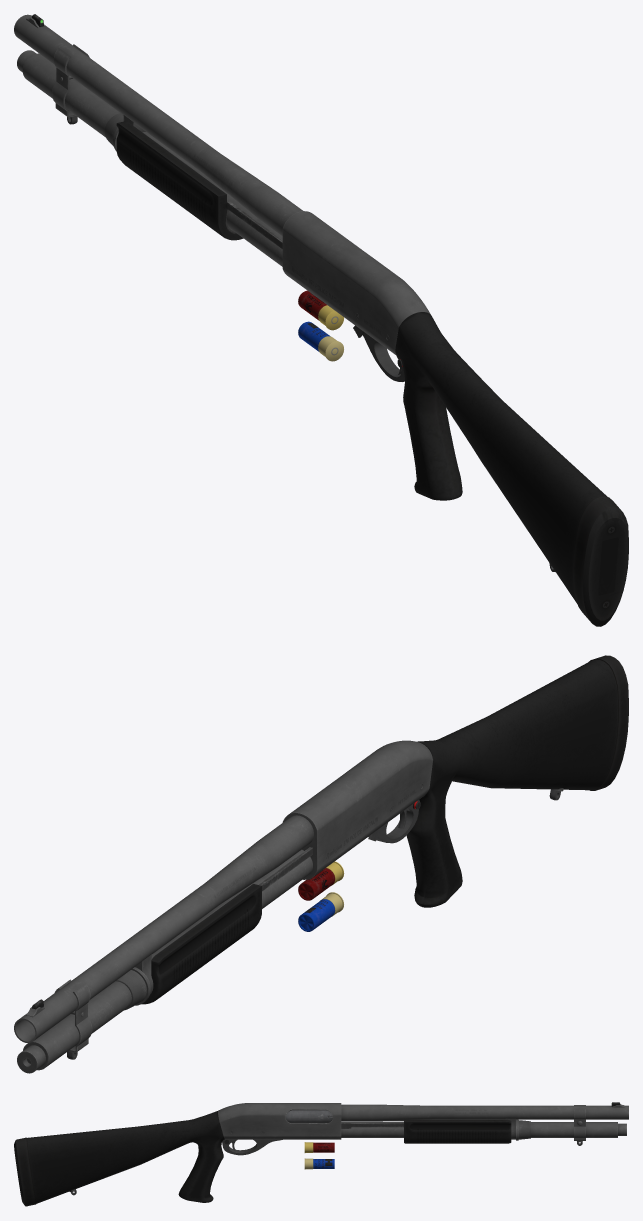
The picture shows the model from 3 angles, top to bottom: view 1: azimuth 30°, elevation 25°; view 2: azimuth 150°, elevation 25°; view 3: azimuth 270°, elevation 25°; orthographic projection. The views are drawn at different scales.
Visible parts, largest first — view 1: R870, R870__misc, 12gauge_hornady, 12gauge_federal; view 2: R870, R870__misc, 12gauge_hornady, 12gauge_federal; view 3: R870, R870__misc, 12gauge_federal, 12gauge_hornady.
Boxes of the visible parts, bbox=[...] form: R870: bbox=[14, 14, 607, 603]; R870__misc: bbox=[17, 14, 628, 626]; 12gauge_hornady: bbox=[298, 321, 343, 361]; 12gauge_federal: bbox=[298, 290, 343, 330]; R870: bbox=[19, 659, 618, 1040]; R870__misc: bbox=[14, 655, 628, 1073]; 12gauge_hornady: bbox=[298, 892, 343, 931]; 12gauge_federal: bbox=[298, 861, 344, 900]; R870: bbox=[26, 1103, 628, 1203]; R870__misc: bbox=[14, 1102, 626, 1206]; 12gauge_federal: bbox=[304, 1142, 334, 1152]; 12gauge_hornady: bbox=[304, 1158, 334, 1169].
Size of the model in its own units: 0.4305 by 1.81 by 9.74.
Materials: 3 (3 with a texture image).
